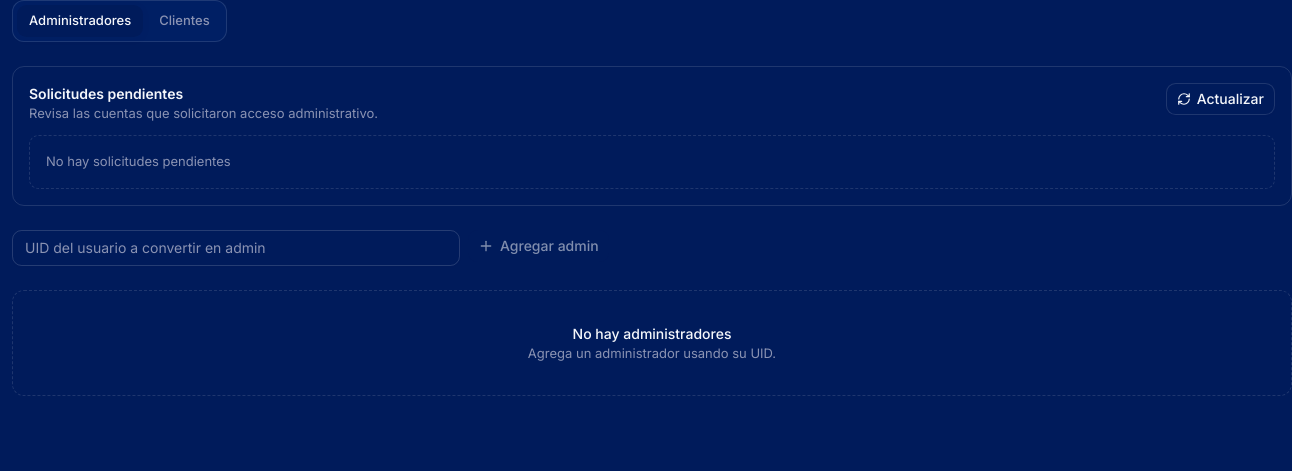
AdminUsuarios - solicitudes pendientes › actualiza una solicitud nueva sin recargar la pagina
expect the text "No hay solicitudes pendientes" is shown: met, box [29,135,1275,188]
Click the button with aria-label "Actualizar solicitudes" at [1220, 98], box [1166,82,1275,114]
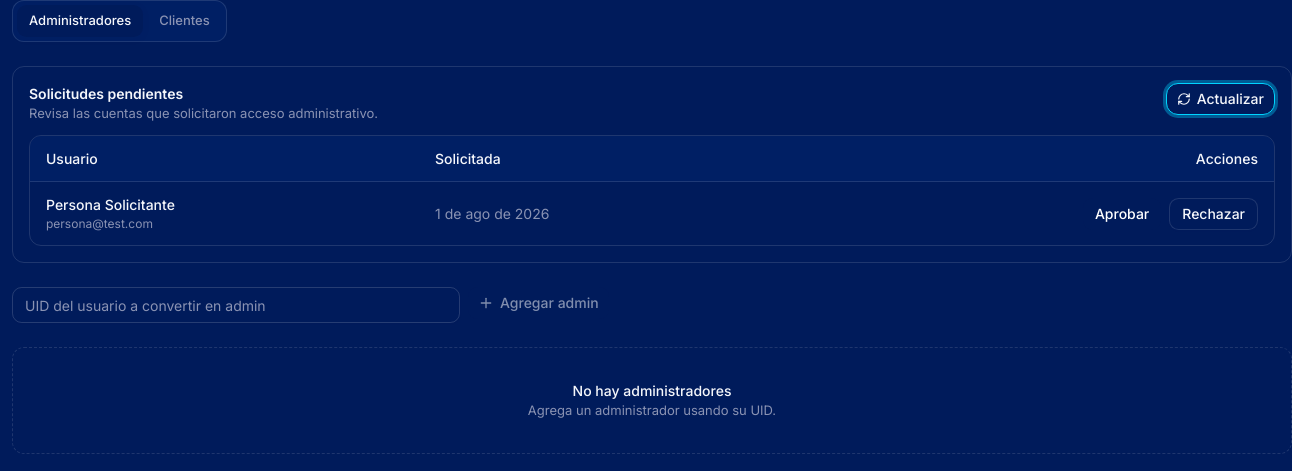
expect the text "Persona Solicitante" is shown: met, box [46,196,175,213]
